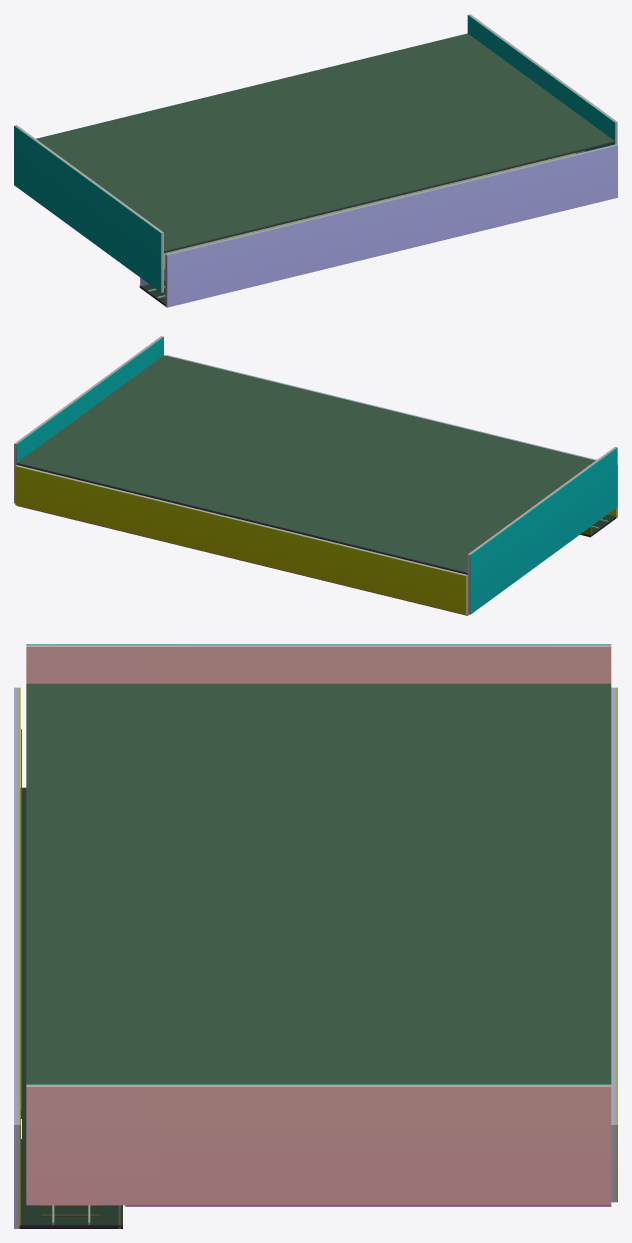
File: station.glb
The picture shows the model from 3 angles, top to bottom: view 1: azimuth 30°, elevation 25°; view 2: azimuth 150°, elevation 25°; view 3: azimuth 270°, elevation 25°; orthographic projection. The views are drawn at different scales.
Parts seen in each view (by area): view 1: Arch_Ceiling-col, Arch_TrackWall, Arch_WallW-col, Arch_WallE-col, Arch_Floor-col; view 2: Arch_Ceiling-col, Arch_WallN-col, Arch_WallW-col, Arch_WallE-col, Arch_TrackWall, Arch_Floor-col; view 3: Arch_Ceiling-col, Arch_WallE-col, Arch_WallW-col, Arch_TrackBed, Arch_TrackWall, Arch_WallN-col, Arch_Floor-col.
Part boxes in pixels (x1,y1,x2,y2): Arch_Ceiling-col: (36,33,614,252); Arch_TrackWall: (165,144,617,307); Arch_WallW-col: (14,125,163,292); Arch_WallE-col: (467,14,617,153); Arch_Floor-col: (164,153,575,268); Arch_Ceiling-col: (17,355,595,574); Arch_WallN-col: (15,465,467,614); Arch_WallW-col: (467,447,617,614); Arch_WallE-col: (14,336,163,503); Arch_TrackWall: (166,355,617,517); Arch_Floor-col: (17,505,469,615); Arch_Ceiling-col: (26,683,611,1084); Arch_WallE-col: (26,1084,611,1205); Arch_WallW-col: (26,644,611,683); Arch_TrackBed: (19,787,122,1228); Arch_TrackWall: (14,687,20,1228); Arch_WallN-col: (611,687,617,1202); Arch_Floor-col: (125,1205,611,1206).
Size of what is drawn, in the model's own units: 46.6 by 7.1 by 26.85.
